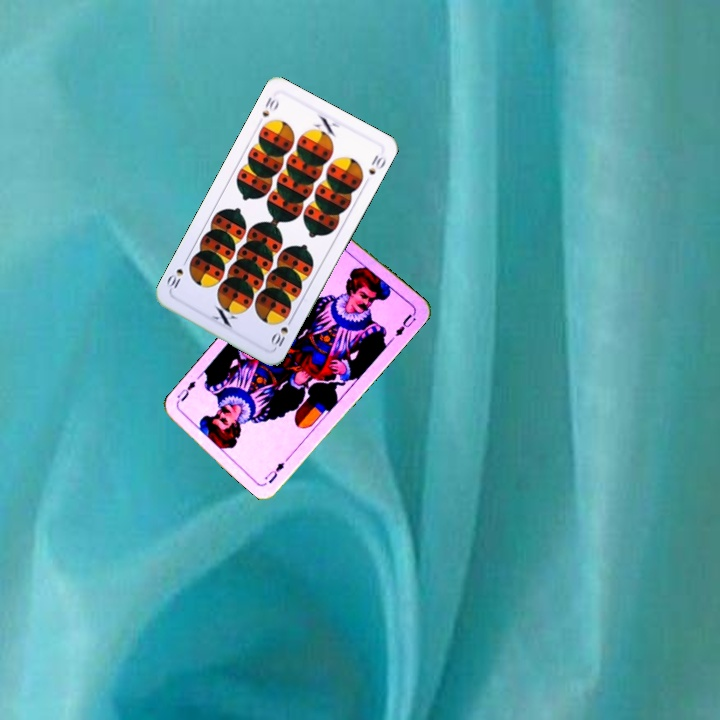EU: (261, 458, 287, 486)
S10: (267, 314, 296, 351), (258, 93, 282, 119)
